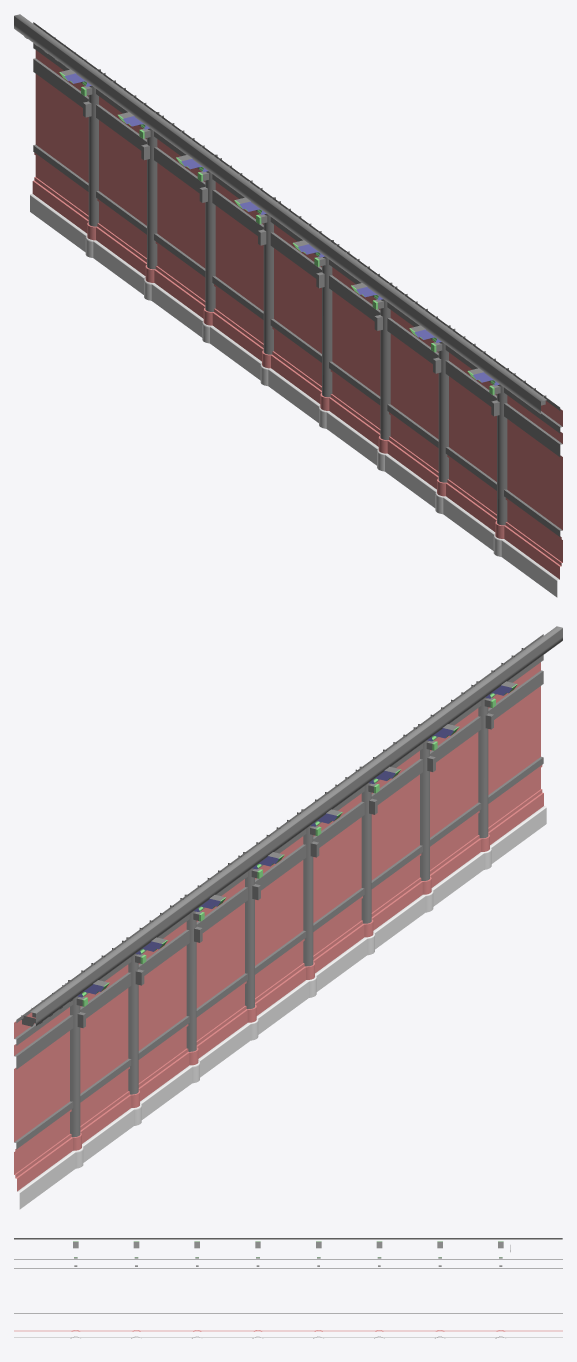
File: SM_ENV_KNVLLG03_Bridge_StraightA_2.gltf
The picture shows the model from 3 angles, top to bottom: view 1: azimuth 30°, elevation 25°; view 2: azimuth 150°, elevation 25°; view 3: azimuth 270°, elevation 25°; orthographic projection. The views are drawn at different scales.
Parts seen in each view (by area): view 1: SM_ENV_KNVLLG03_Bridge_StraightA_2; view 2: SM_ENV_KNVLLG03_Bridge_StraightA_2; view 3: SM_ENV_KNVLLG03_Bridge_StraightA_2.
Part boxes in pixels (x1,y1,x2,y2): SM_ENV_KNVLLG03_Bridge_StraightA_2: (14,14,562,597); SM_ENV_KNVLLG03_Bridge_StraightA_2: (14,626,562,1209); SM_ENV_KNVLLG03_Bridge_StraightA_2: (14,1238,562,1338).
Bounding box in the file's own units: 1.08 × 6.18 × 29.53.
